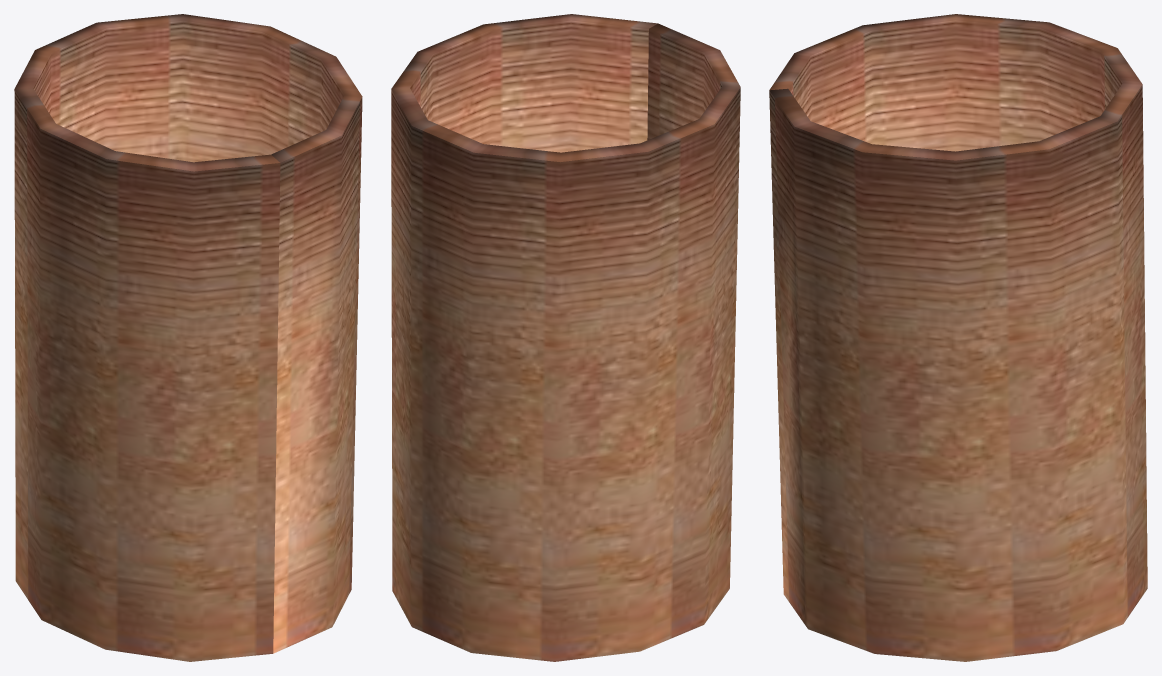
File: cup.glb
3 renders of one model, left to right at view 1: azimuth 30°, elevation 25°; view 2: azimuth 150°, elevation 25°; view 3: azimuth 270°, elevation 25°, orthographic.
Visible parts, largest first — view 1: mug.ms3d.mo; view 2: mug.ms3d.mo; view 3: mug.ms3d.mo.
Part boxes in pixels (x1,y1,x2,y2): mug.ms3d.mo: [14, 14, 362, 661]; mug.ms3d.mo: [391, 14, 740, 661]; mug.ms3d.mo: [769, 14, 1147, 661].
Size of the model in its own units: 15.17 by 24.68 by 16.55.
1 material, 1 textured.
